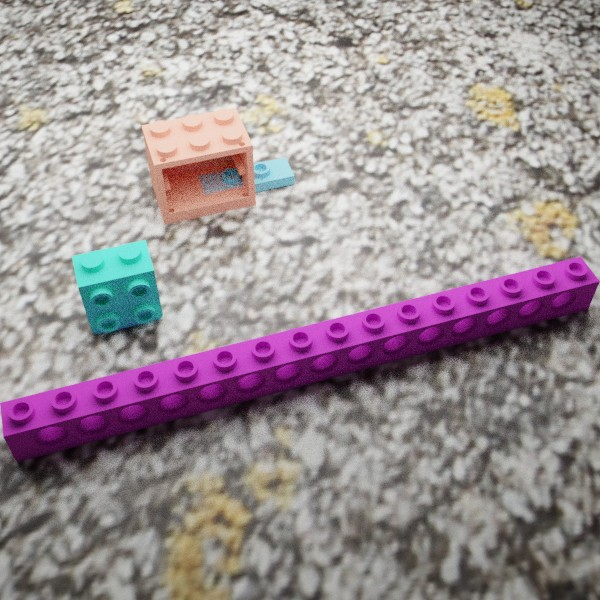lego: (0, 256, 600, 462), (141, 107, 256, 224), (71, 239, 162, 334), (197, 157, 294, 202)
